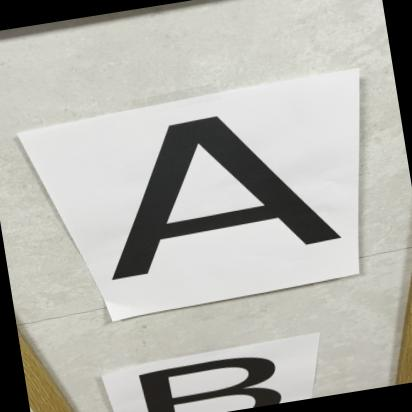seat: (53, 81, 367, 302)
